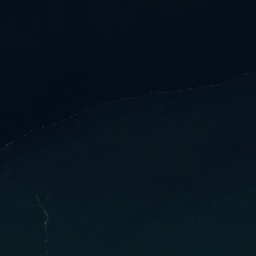Marine Debris: (40, 77, 235, 129), (242, 72, 250, 76)
